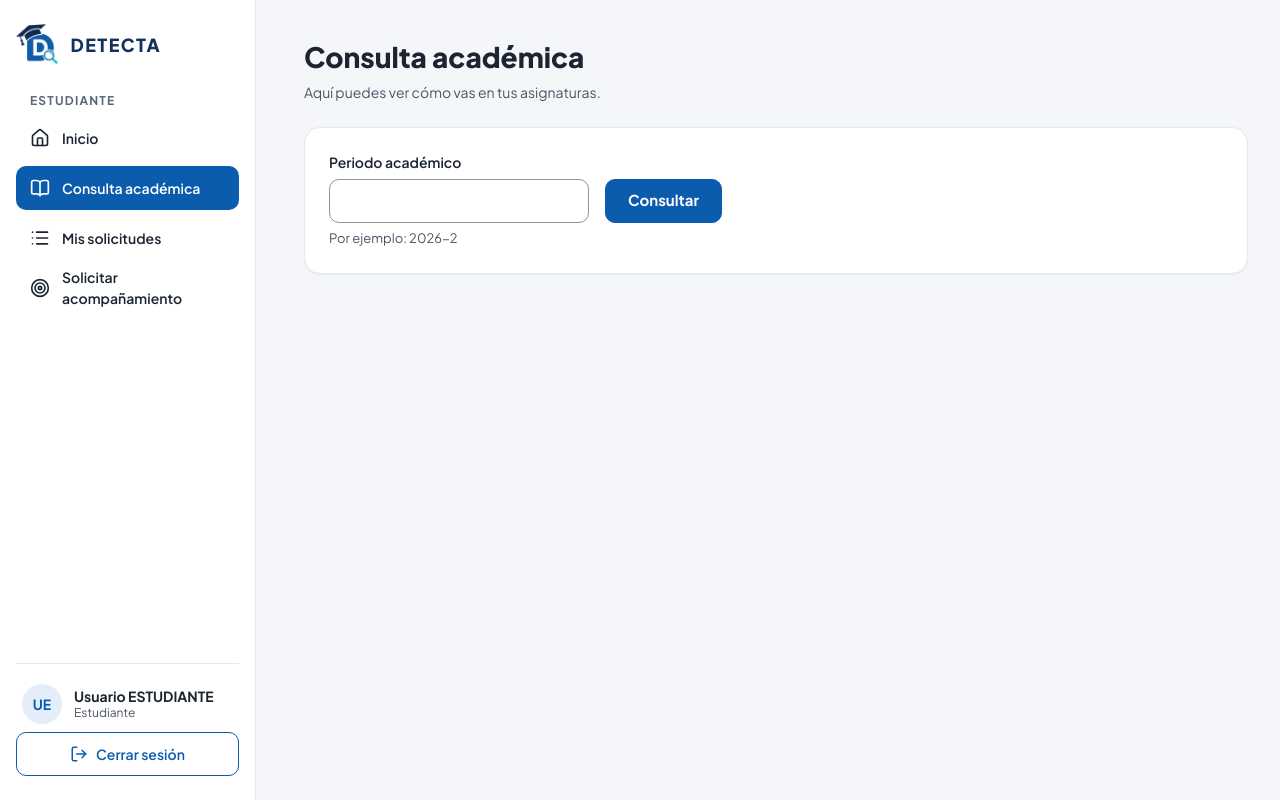
Avisos de alerta por nivel (D4b, §7.2) › aviso BAJO: título «Riesgo bajo · Física I», su ícono, fecha y descripción; enlace solo en medio y alto
Step 1. Type "2026-2" into the field labelled "Periodo académico" → (459, 201), box x1=329 y1=179 x2=589 y2=223
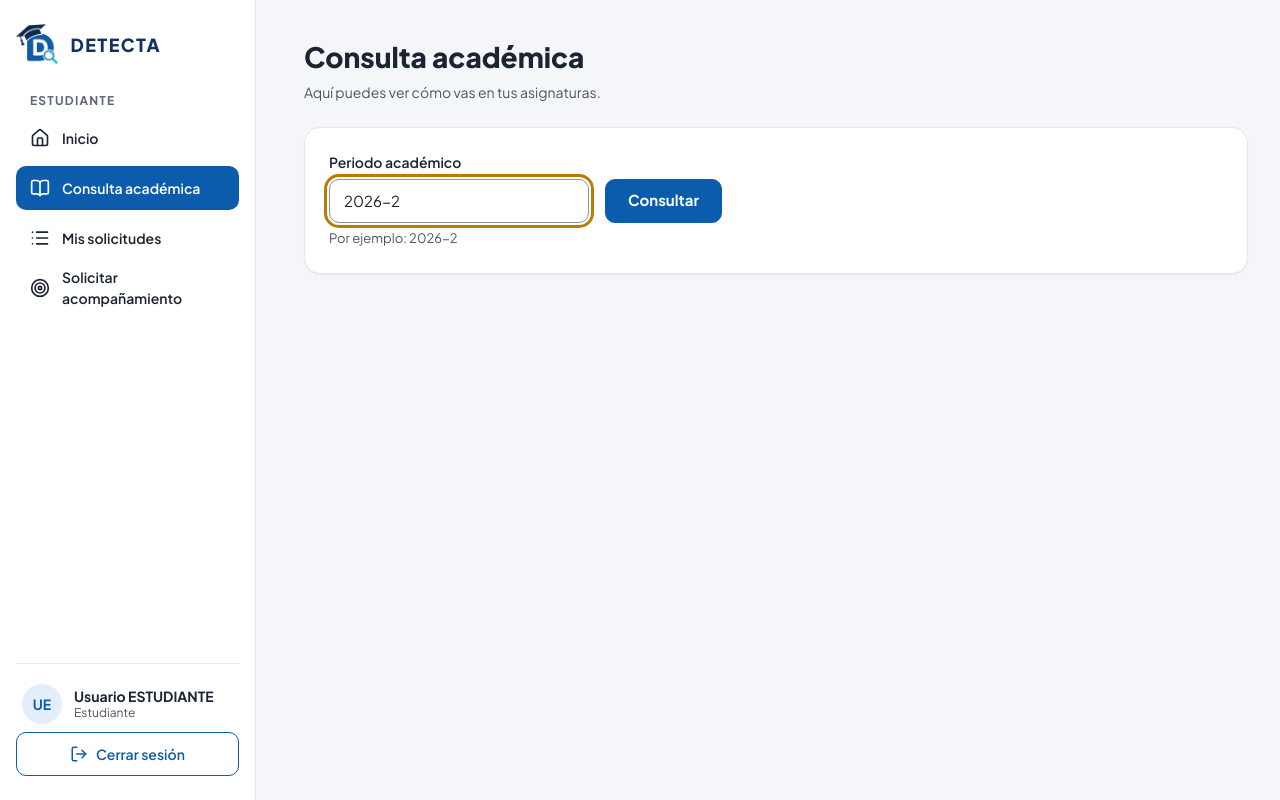
Step 2. Click the button "Consultar" → (664, 201), box x1=605 y1=179 x2=722 y2=223
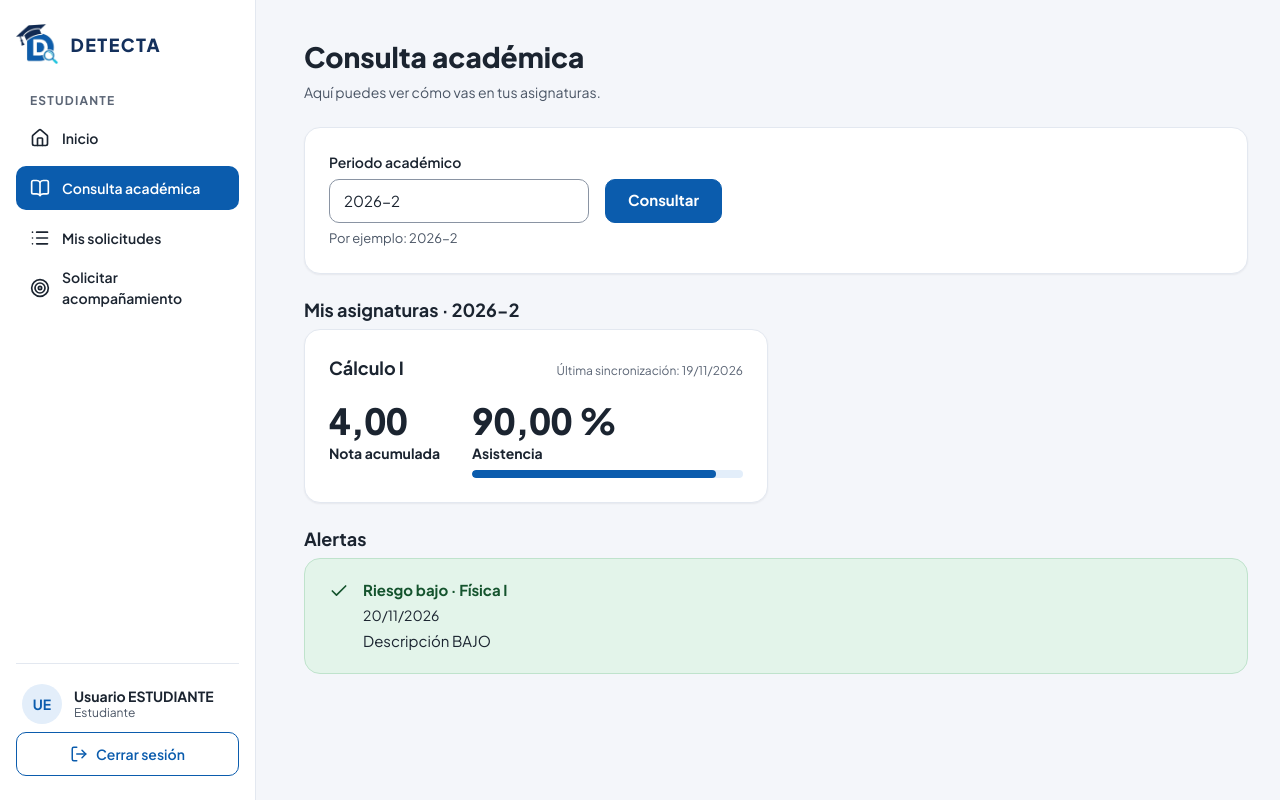
Expected: the text "20/11/2026" is shown, x1=363 y1=606 x2=440 y2=624
